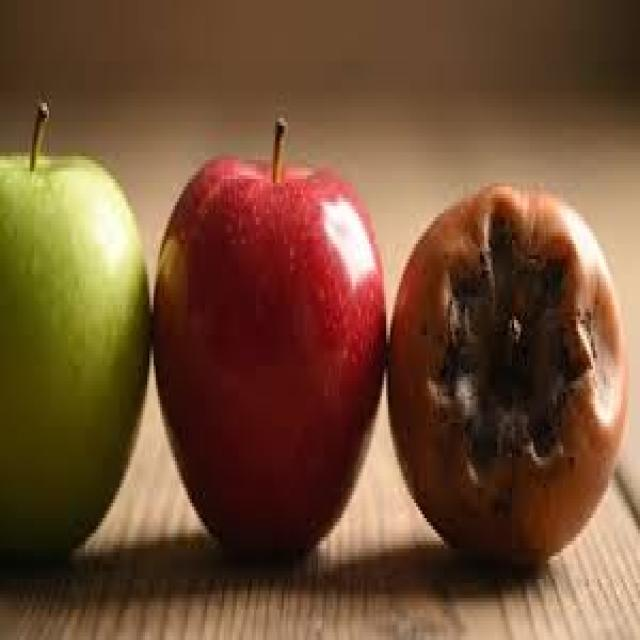Green Juicy Apple: (1, 158, 148, 568)
Red Apple: (154, 156, 386, 570)
Rotten Apple: (389, 188, 628, 568)
